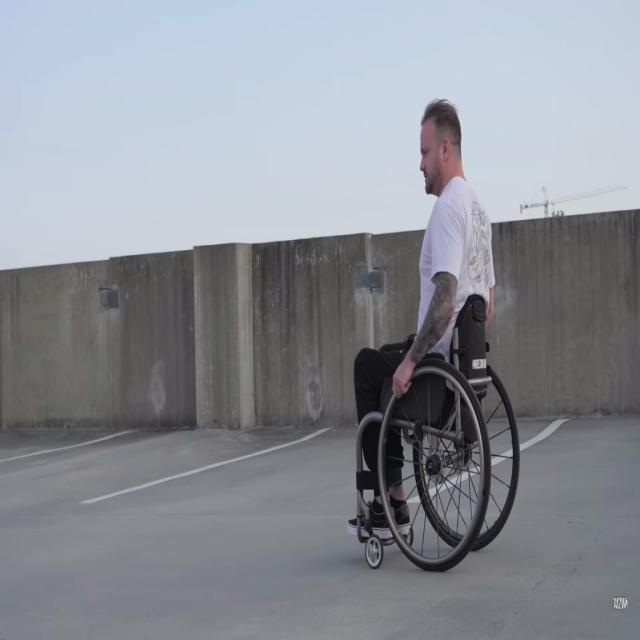wheelchairs: (347, 342, 526, 568)
